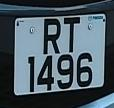1: (24, 55, 38, 95)
4: (35, 54, 56, 94)
6: (74, 52, 96, 91)
9: (53, 52, 76, 91)
R: (41, 15, 63, 57)
T: (61, 15, 83, 55)
